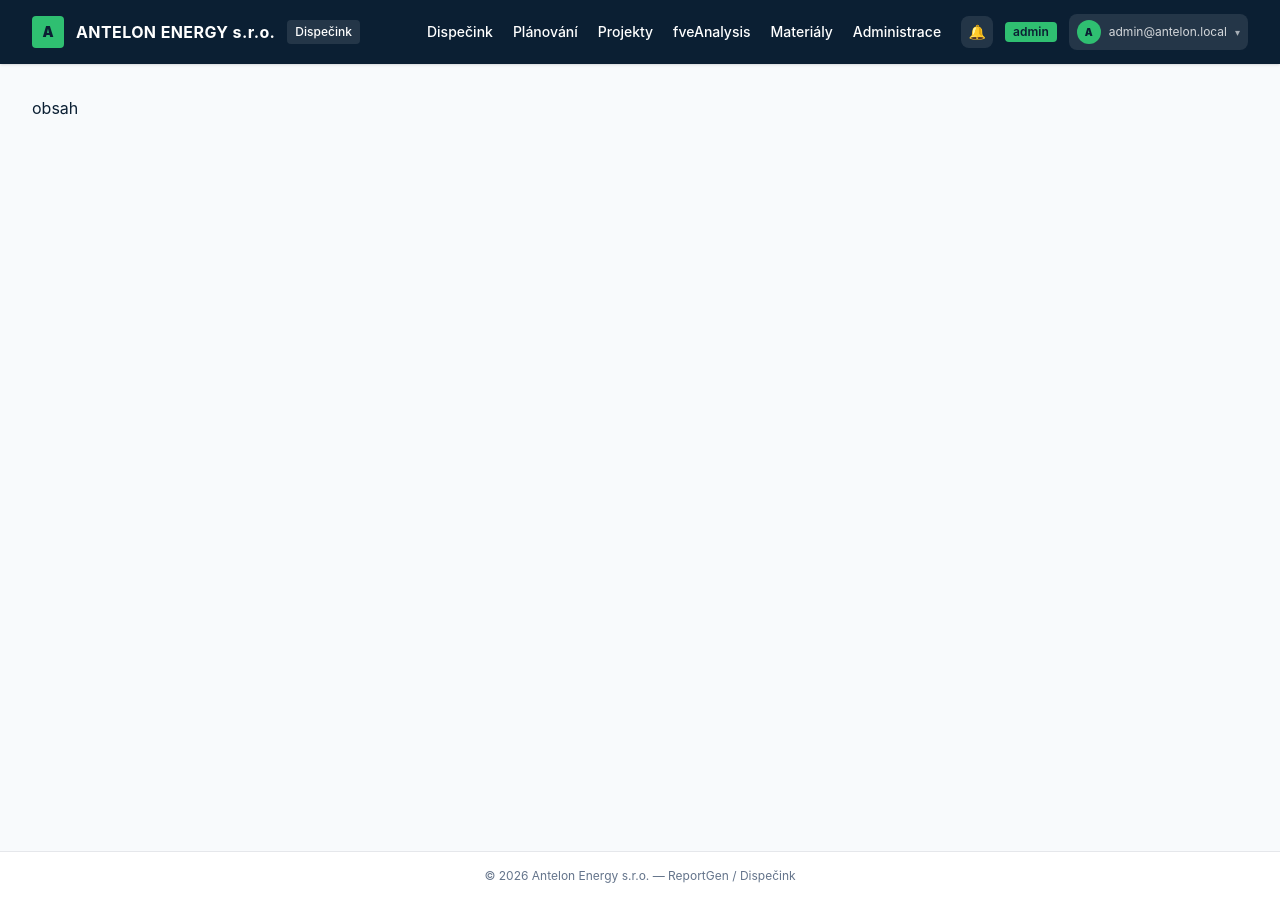
Test: Layout — user menu › dropdown obsahuje O programu, Changelog a Odhlásit
The image size is (1280, 900).
Click the button with test id "user-menu-btn". click: point(1158, 32)
box: [1069,14,1248,50]
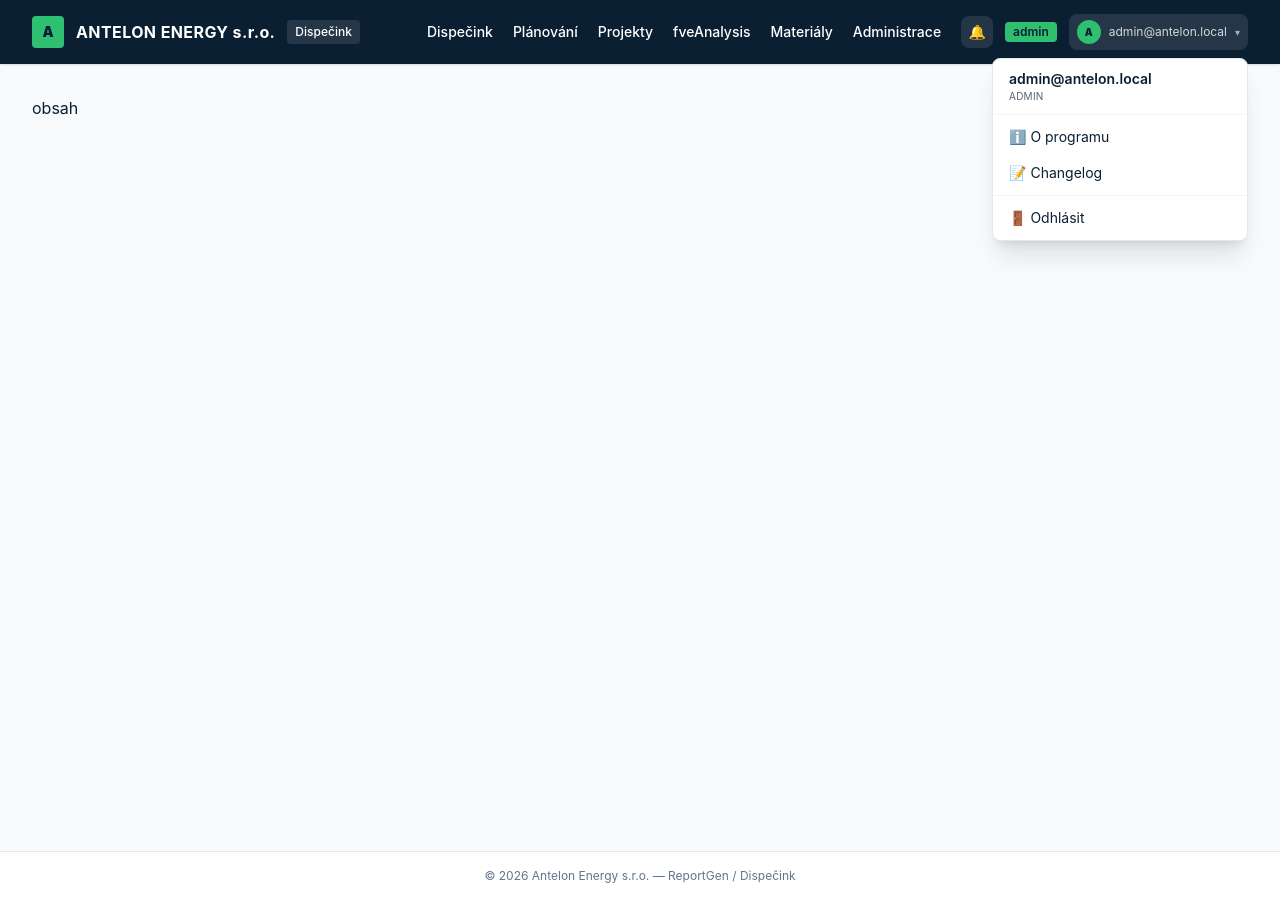
Expected: the button with test id "user-menu-logout" is shown, [993,200,1247,236]
